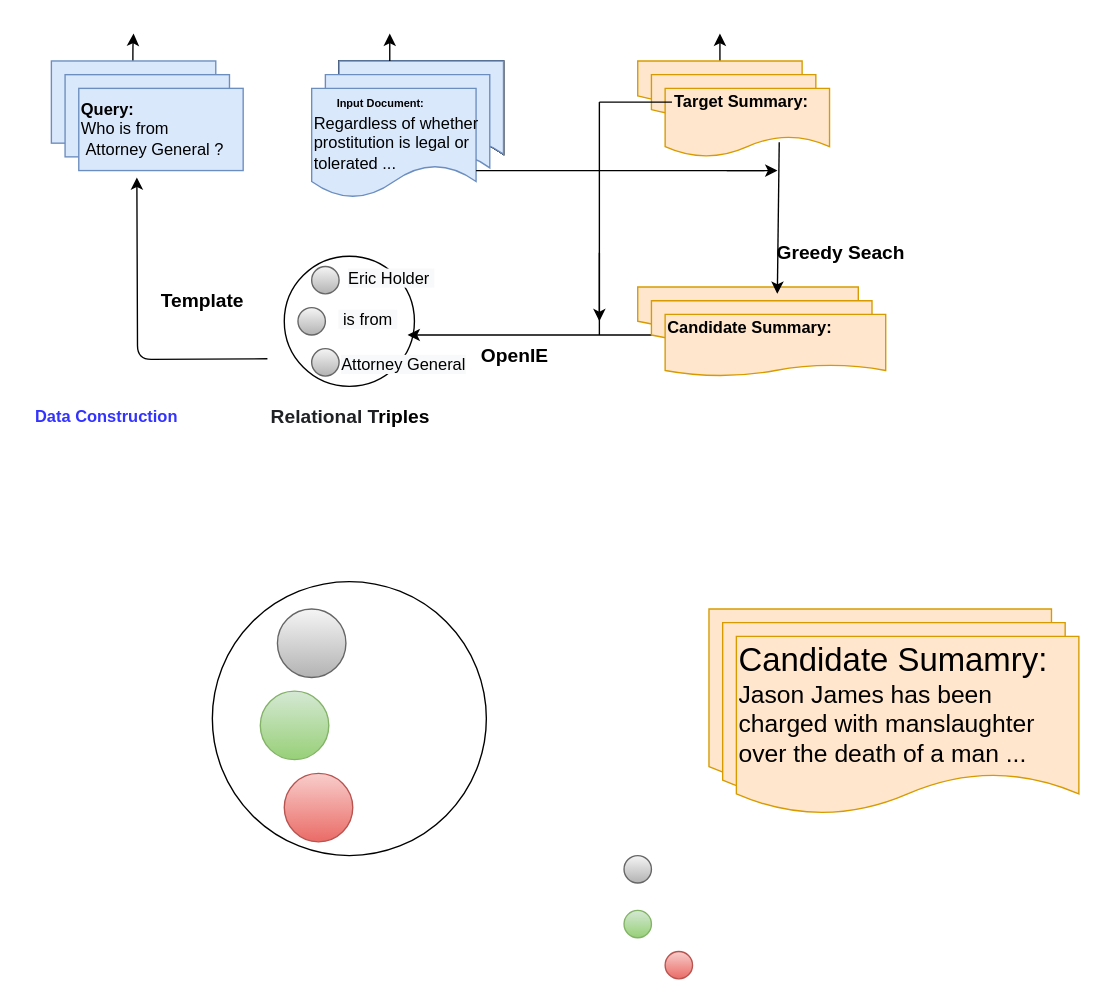
Image size: 1103x1003. Some labels were removed from this diagram. Each missing label, with the centre of its shape:
"Attorney General Holder..." belongs at point 747,122.
"That was the message Friday..." belongs at point 775,344.
